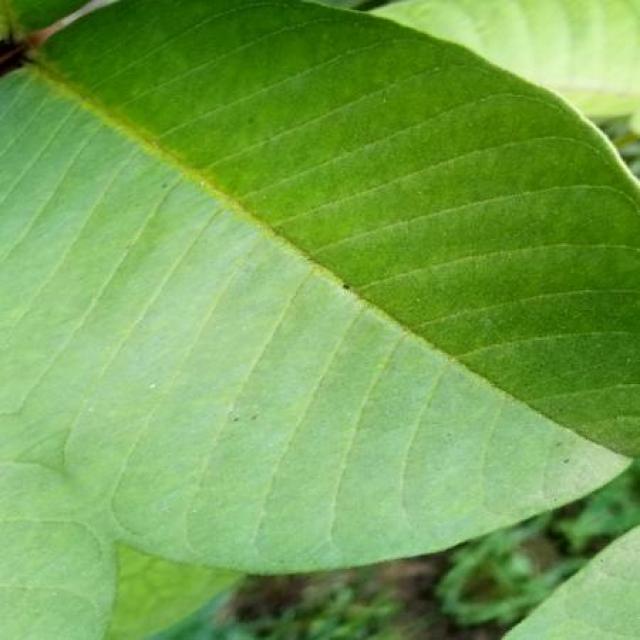Disease Free: (1, 1, 640, 572)
